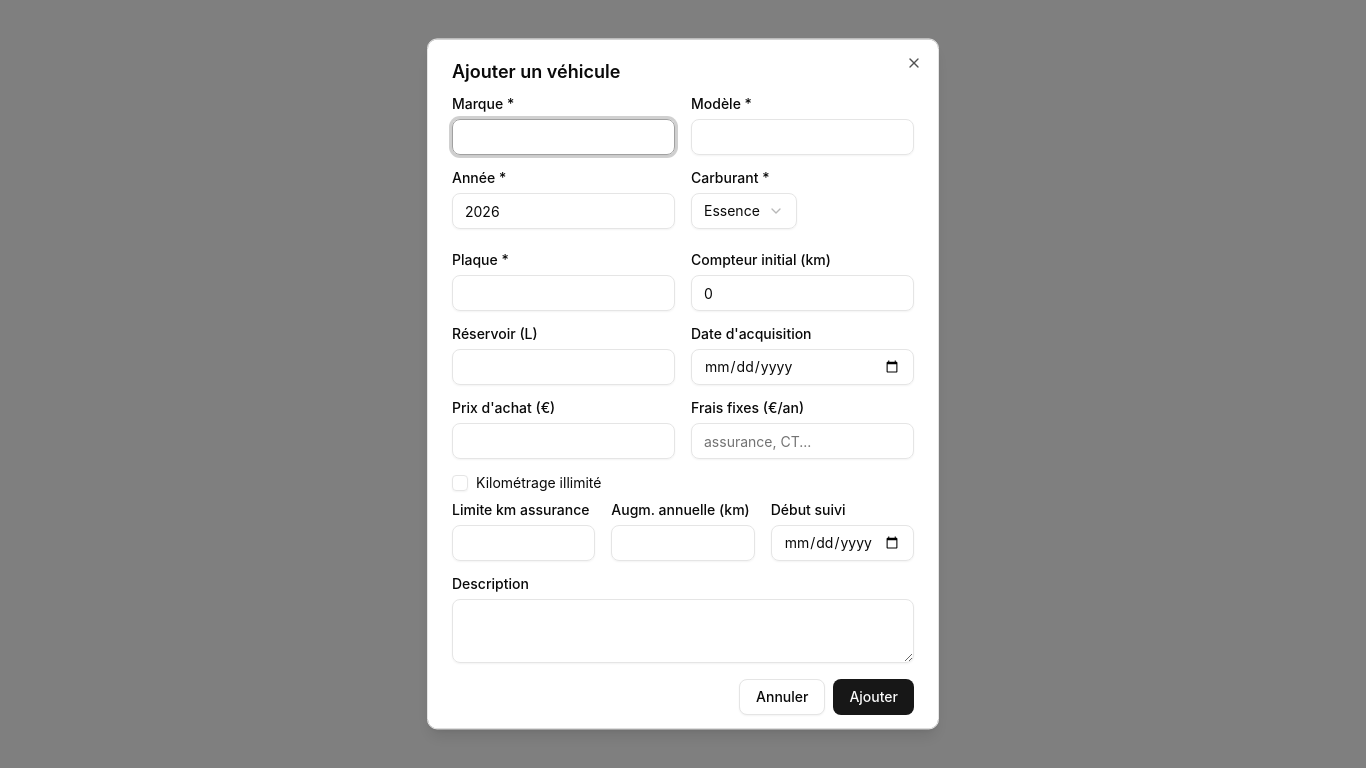
Test: VehicleAddDialog › insurance unlimited checkbox hides the km-limit fields
expect the heading "Ajouter un véhicule" is shown: met, box [452,61,620,82]
expect the number field labelled "Limite km assurance" is shown: met, box [452,525,595,561]
What coordinates should you click on to do the following:
click the checkbox named "Kilométrage illimité"
I would click on:
 (460, 483)
Its box is [452,475,468,491].
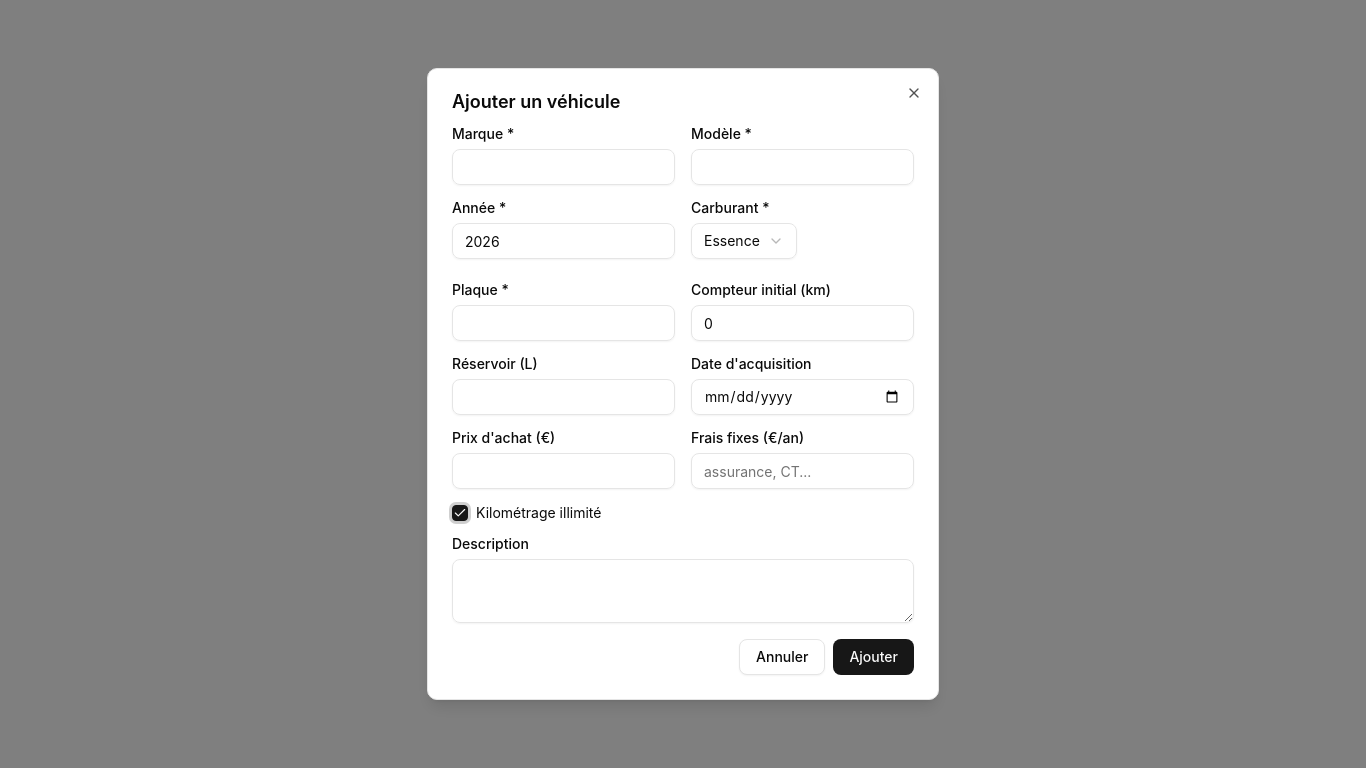
expect the label labelled "Limite km assurance" is gone: met
